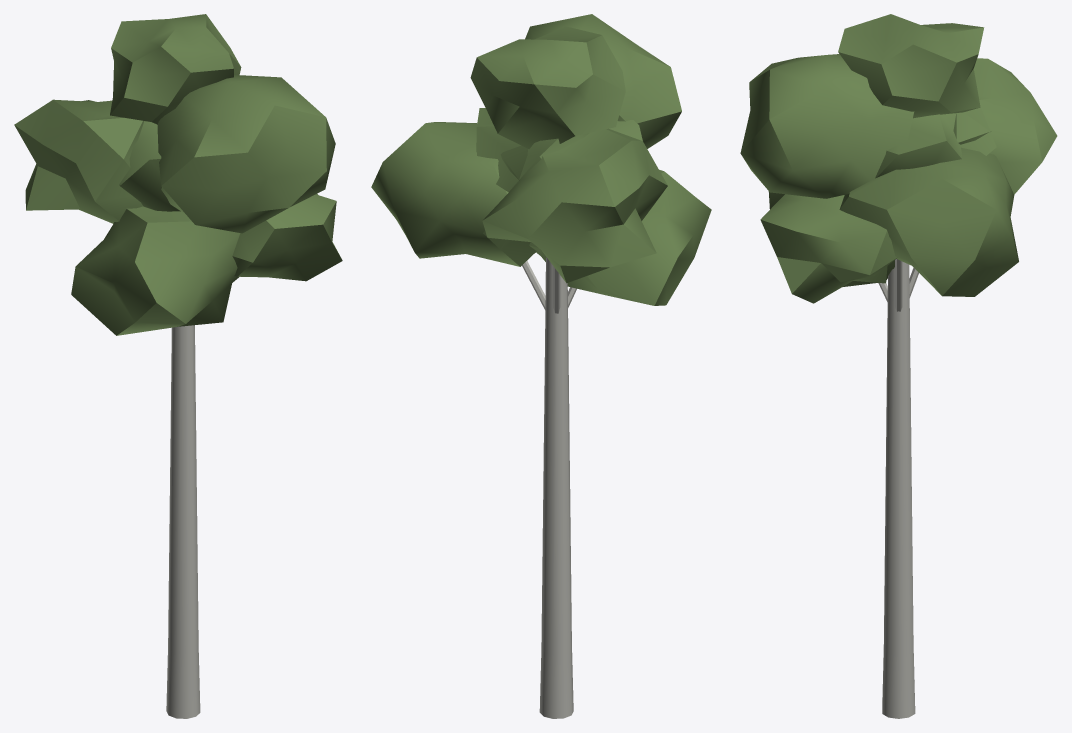
File: tree_birch.glb
3 renders of one model, left to right at view 1: azimuth 30°, elevation 25°; view 2: azimuth 150°, elevation 25°; view 3: azimuth 270°, elevation 25°, orthographic.
Visible parts, largest first — view 1: tree_mesh; view 2: tree_mesh; view 3: tree_mesh.
Boxes of the visible parts, x1,y1,x2,y2 form: tree_mesh: (14,14,342,718); tree_mesh: (371,14,711,718); tree_mesh: (740,14,1057,718).
Size of what is drawn, in the model's own units: 2.24 by 5.25 by 2.19.
